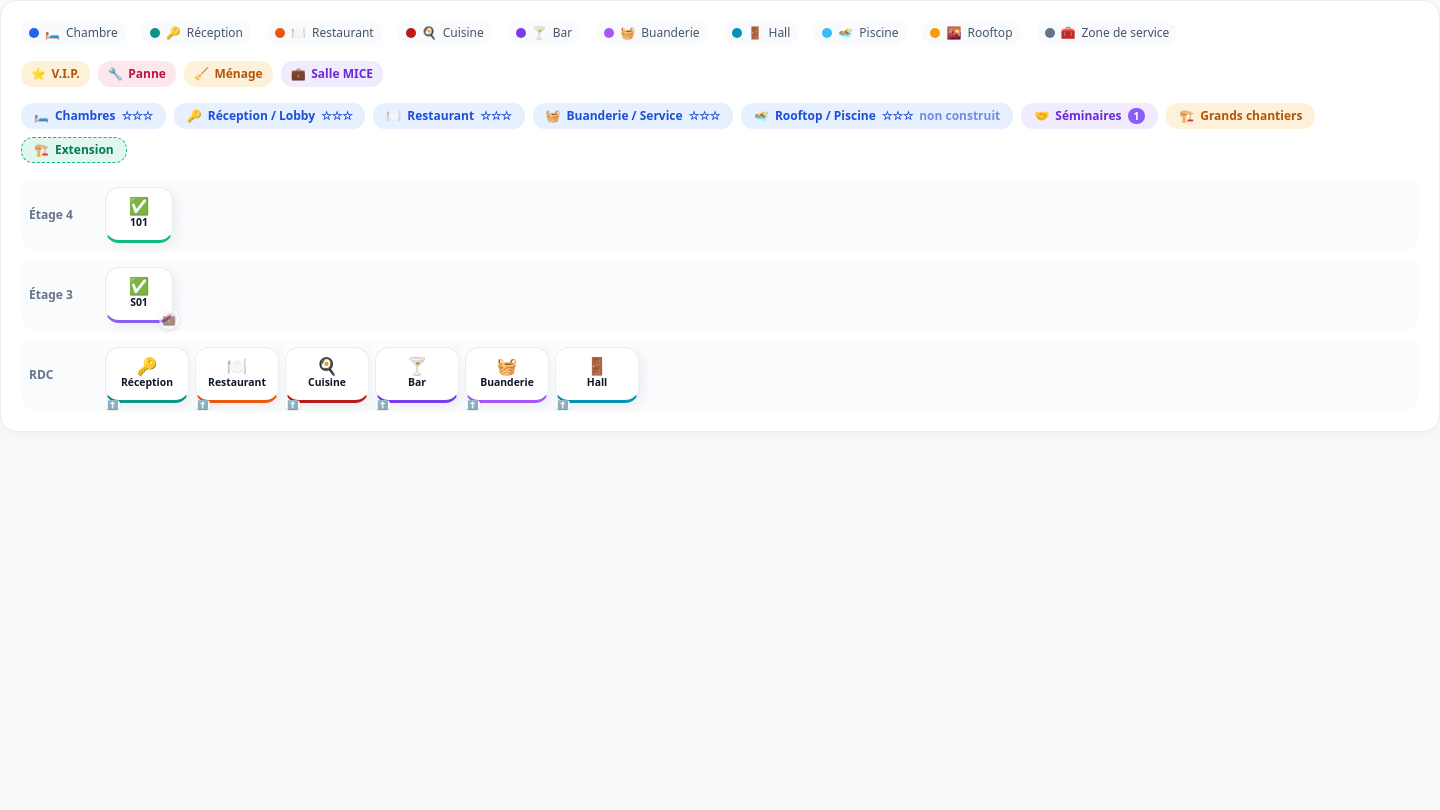
Test case: SchematicHotelView / seminars and events › the chip opens the seminar desk
Click the button with test id "schematic-mice" at (1090, 116), box [1021,103,1158,129]
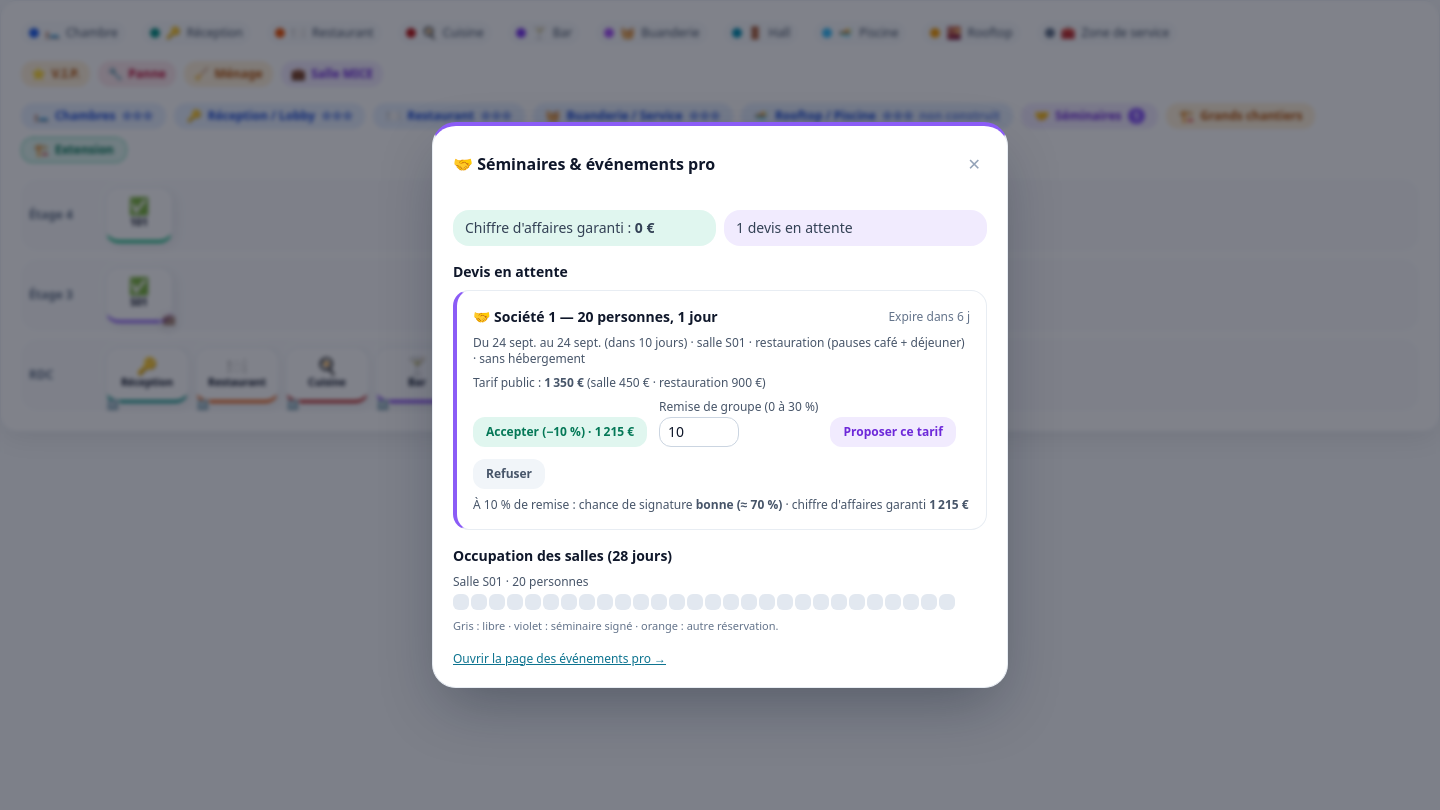
Expected: the dialog "Séminaires & événements pro" is shown
Expected: the list item with test id "mice-request-1" shows "Société 1", [494,307,556,326]
